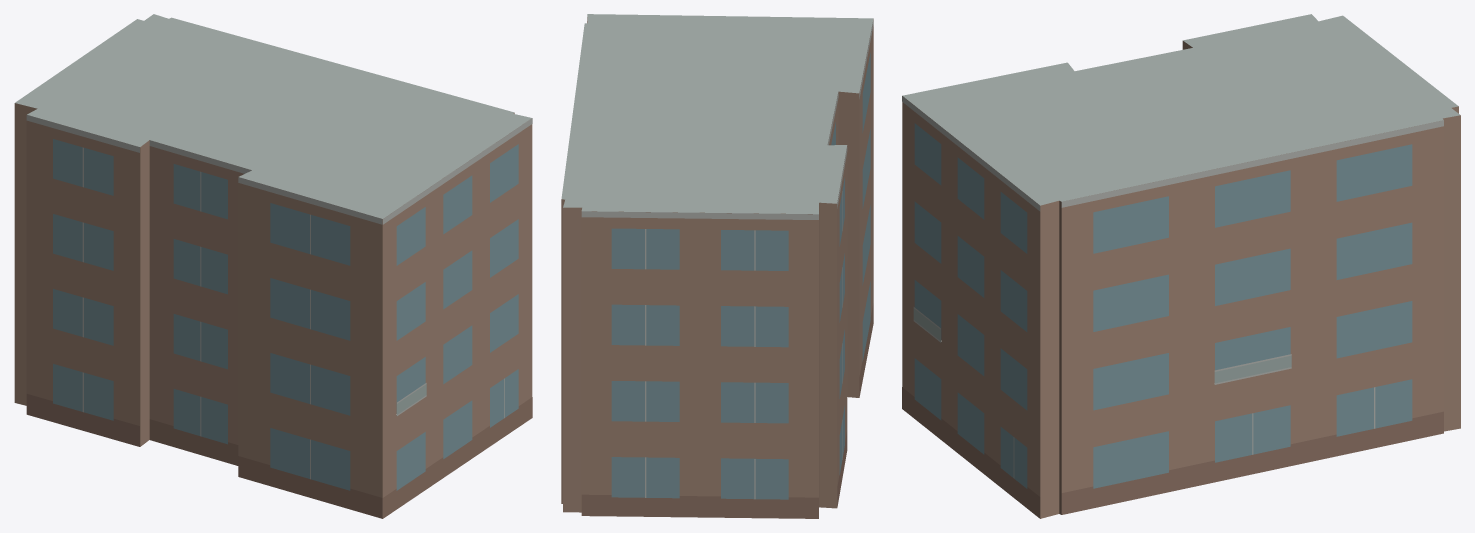
Rendered from survey-upis-32911768.glb.
3 views of the same model, side by side, from view 1: azimuth 30°, elevation 25°; view 2: azimuth 150°, elevation 25°; view 3: azimuth 270°, elevation 25° (orthographic). The views are drawn at different scales.
Parts seen in each view (by area): view 1: survey-upis-32911768.tmp; view 2: survey-upis-32911768.tmp; view 3: survey-upis-32911768.tmp.
Part boxes in pixels (box(x1,y1,x2,y2)): survey-upis-32911768.tmp: box(14, 14, 532, 518); survey-upis-32911768.tmp: box(561, 14, 873, 518); survey-upis-32911768.tmp: box(902, 14, 1460, 518).
Size of the model in its own units: 16.4 by 12.5 by 20.2.
